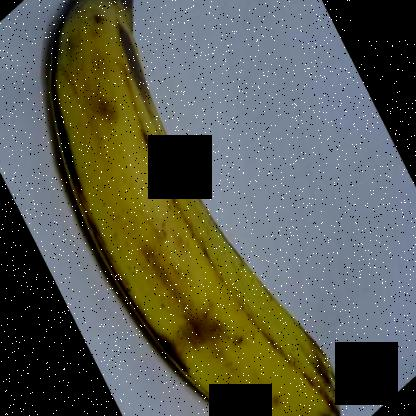ripe: (37, 1, 341, 416)
